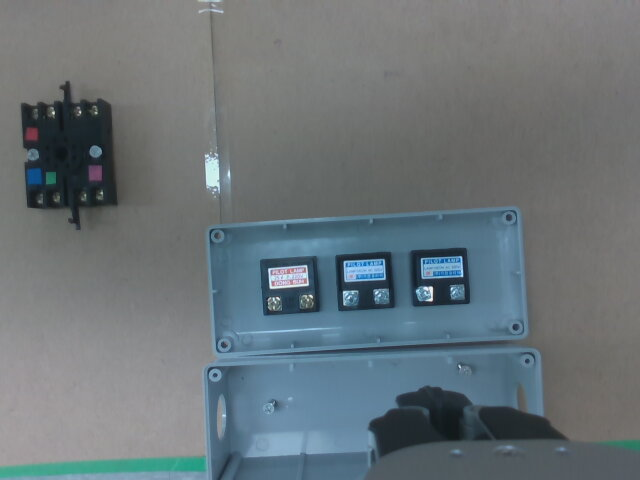L1(1): (267, 296, 282, 311)
L1(2): (297, 294, 314, 310)
L2(1): (342, 290, 359, 306)
L2(2): (374, 289, 390, 305)
L3(1): (417, 286, 432, 302)
L3(2): (449, 285, 465, 300)
